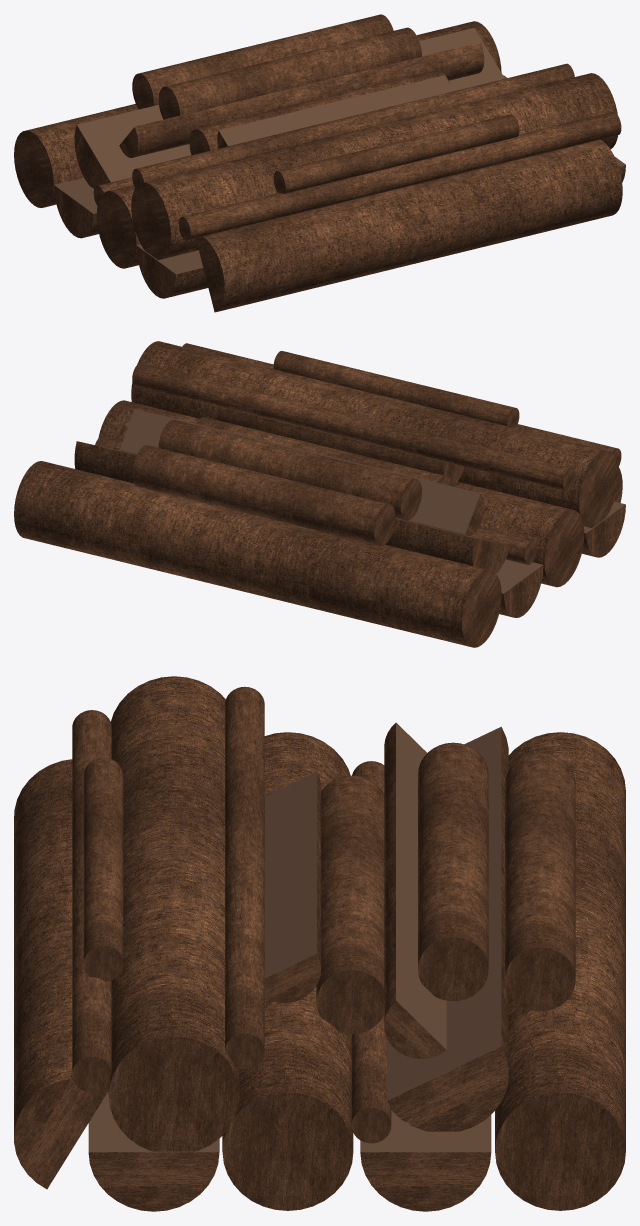
The model's file is Pila_Troncos_texturizada.fbx.
3 views of the same model, one above another, from view 1: azimuth 30°, elevation 25°; view 2: azimuth 150°, elevation 25°; view 3: azimuth 270°, elevation 25° (orthographic). The views are drawn at different scales.
Visible parts, largest first — view 1: Cylinder.016; view 2: Cylinder.016; view 3: Cylinder.016.
Part boxes in pixels (x1,y1,x2,y2): Cylinder.016: [14, 14, 625, 312]; Cylinder.016: [14, 341, 625, 647]; Cylinder.016: [14, 676, 625, 1211].
Size of the model in its own units: 1307 by 322 by 934.
1 material, 1 textured.
